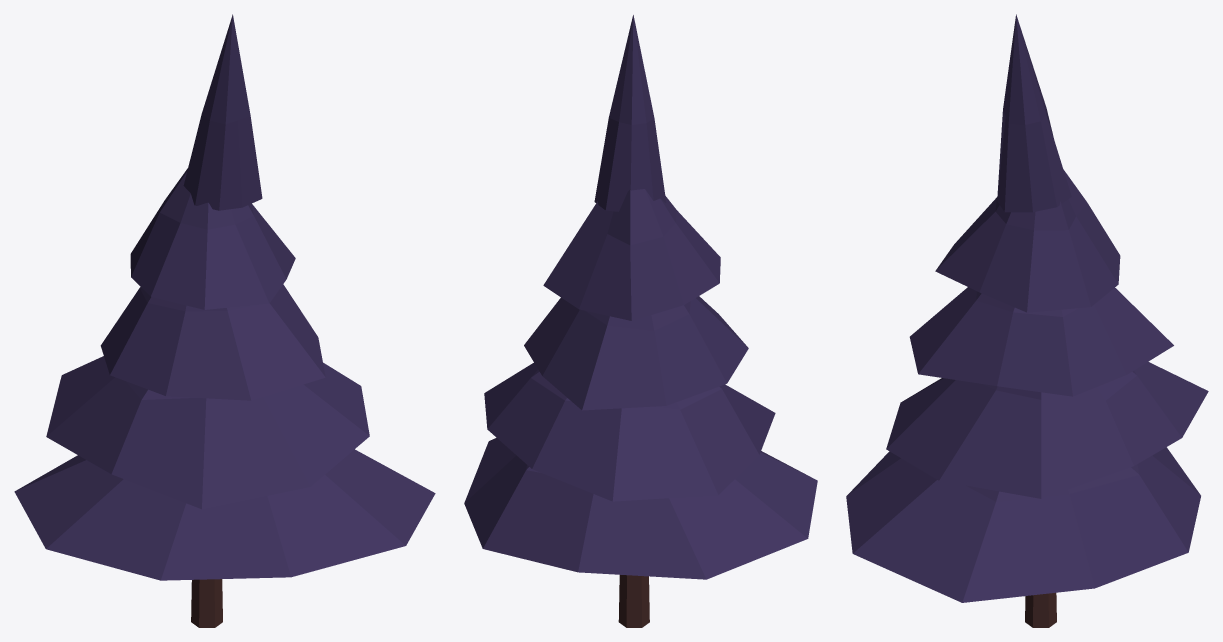
Rendered from tree_pine_2.glb.
3 views of the same model, side by side, from view 1: azimuth 30°, elevation 25°; view 2: azimuth 150°, elevation 25°; view 3: azimuth 270°, elevation 25° (orthographic). The views are drawn at different scales.
Parts seen in each view (by area): view 1: tree_pine_2; view 2: tree_pine_2; view 3: tree_pine_2.
Boxes of the visible parts, box(x1,y1,x2,y2) form: tree_pine_2: box(14, 14, 435, 627); tree_pine_2: box(464, 15, 817, 627); tree_pine_2: box(846, 14, 1208, 627).
Bounding box in the file's own units: 5.51 × 9 × 4.81.
